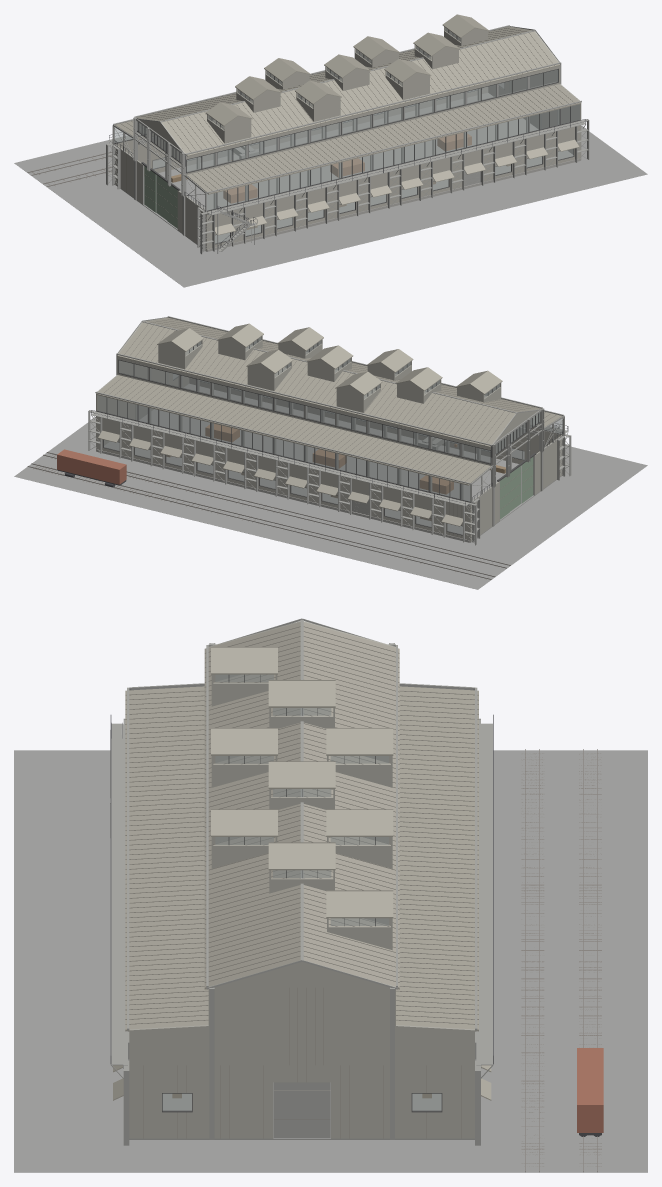
File: clay-craneway-hall-clay-v007.glb
The picture shows the model from 3 angles, top to bottom: view 1: azimuth 30°, elevation 25°; view 2: azimuth 150°, elevation 25°; view 3: azimuth 270°, elevation 25°; orthographic projection. The views are drawn at different scales.
Parts seen in each view (by area): view 1: CLAY_FOUNDATION, CLAY_ROOF, CLAY_WALL, CLAY_PALE, CLAY_GLASS, CLAY_JOINT, CLAY_TRIM, CLAY_GREEN, CLAY_RUST, CLAY_HARDWARE, CLAY_STONE, CLAY_RAIL; view 2: CLAY_FOUNDATION, CLAY_ROOF, CLAY_WALL, CLAY_PALE, CLAY_GLASS, CLAY_JOINT, CLAY_TRIM, CLAY_RAIL, CLAY_CAR, CLAY_GREEN, CLAY_RUST, CLAY_STONE (+1 smaller); view 3: CLAY_FOUNDATION, CLAY_ROOF, CLAY_WALL, CLAY_JOINT, CLAY_PALE, CLAY_GLASS, CLAY_RAIL, CLAY_CAR, CLAY_HARDWARE.
Boxes of the visible parts, bbox=[...] form: CLAY_FOUNDATION: bbox=[14, 83, 647, 287]; CLAY_ROOF: bbox=[115, 14, 581, 235]; CLAY_WALL: bbox=[115, 26, 581, 250]; CLAY_PALE: bbox=[106, 25, 589, 254]; CLAY_GLASS: bbox=[114, 27, 579, 243]; CLAY_JOINT: bbox=[120, 27, 573, 232]; CLAY_TRIM: bbox=[114, 30, 579, 244]; CLAY_GREEN: bbox=[144, 166, 177, 228]; CLAY_RUST: bbox=[223, 133, 471, 203]; CLAY_HARDWARE: bbox=[109, 119, 585, 251]; CLAY_STONE: bbox=[207, 158, 580, 251]; CLAY_RAIL: bbox=[27, 82, 555, 186]; CLAY_FOUNDATION: bbox=[14, 374, 647, 589]; CLAY_ROOF: bbox=[96, 317, 561, 526]; CLAY_WALL: bbox=[96, 317, 563, 541]; CLAY_PALE: bbox=[88, 316, 571, 545]; CLAY_GLASS: bbox=[97, 337, 562, 534]; CLAY_JOINT: bbox=[101, 318, 559, 538]; CLAY_TRIM: bbox=[97, 339, 563, 535]; CLAY_RAIL: bbox=[27, 372, 538, 579]; CLAY_CAR: bbox=[57, 449, 126, 484]; CLAY_GREEN: bbox=[500, 457, 533, 519]; CLAY_RUST: bbox=[205, 423, 457, 494]; CLAY_STONE: bbox=[96, 449, 469, 542]; CLAY_FOUNDATION: bbox=[14, 750, 647, 1172]; CLAY_ROOF: bbox=[113, 622, 491, 1100]; CLAY_WALL: bbox=[129, 621, 474, 1138]; CLAY_JOINT: bbox=[125, 626, 478, 1138]; CLAY_PALE: bbox=[110, 618, 493, 1145]; CLAY_GLASS: bbox=[162, 674, 441, 1110]; CLAY_RAIL: bbox=[521, 749, 601, 1172]; CLAY_CAR: bbox=[577, 1048, 603, 1132]; CLAY_HARDWARE: bbox=[110, 714, 601, 1136].
Bounding box in the file's own units: 104 × 23.84 × 66.
